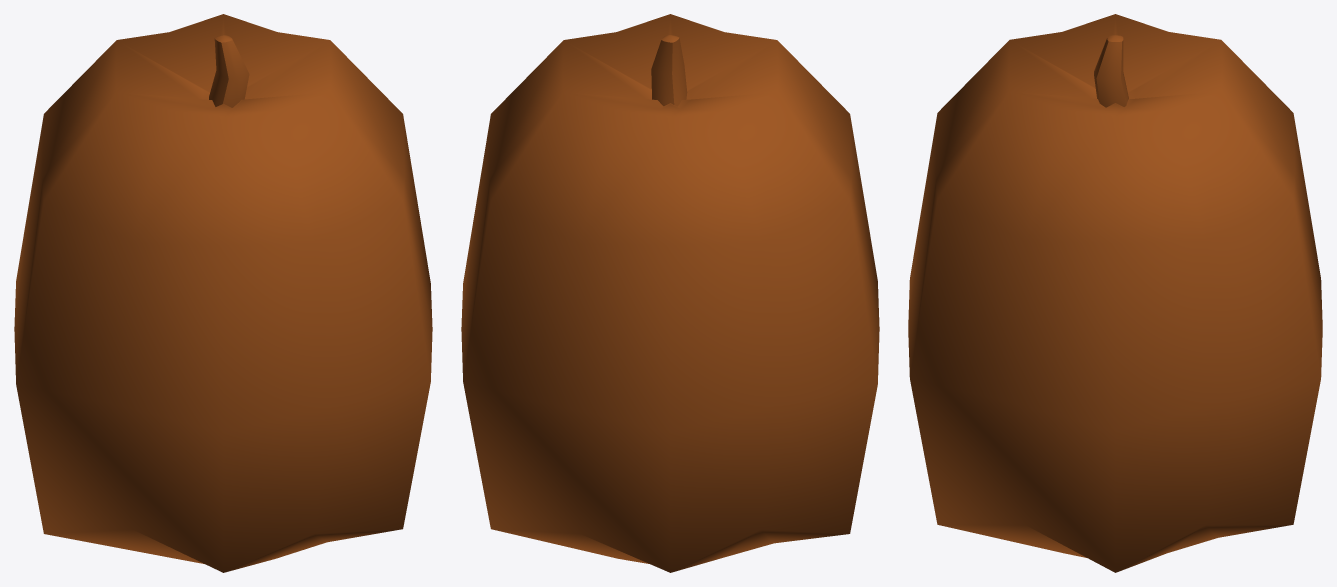
The model's file is Citrouille_Long.fbx.
The picture shows the model from 3 angles, left to right: view 1: azimuth 30°, elevation 25°; view 2: azimuth 150°, elevation 25°; view 3: azimuth 270°, elevation 25°; orthographic projection.
Parts seen in each view (by area): view 1: Sphere006; view 2: Sphere006; view 3: Sphere006.
Boxes of the visible parts, x1,y1,x2,y2 form: Sphere006: [14, 14, 432, 572]; Sphere006: [461, 14, 879, 572]; Sphere006: [908, 14, 1322, 572].
Bounding box in the file's own units: 36.18 × 40.44 × 31.59.
